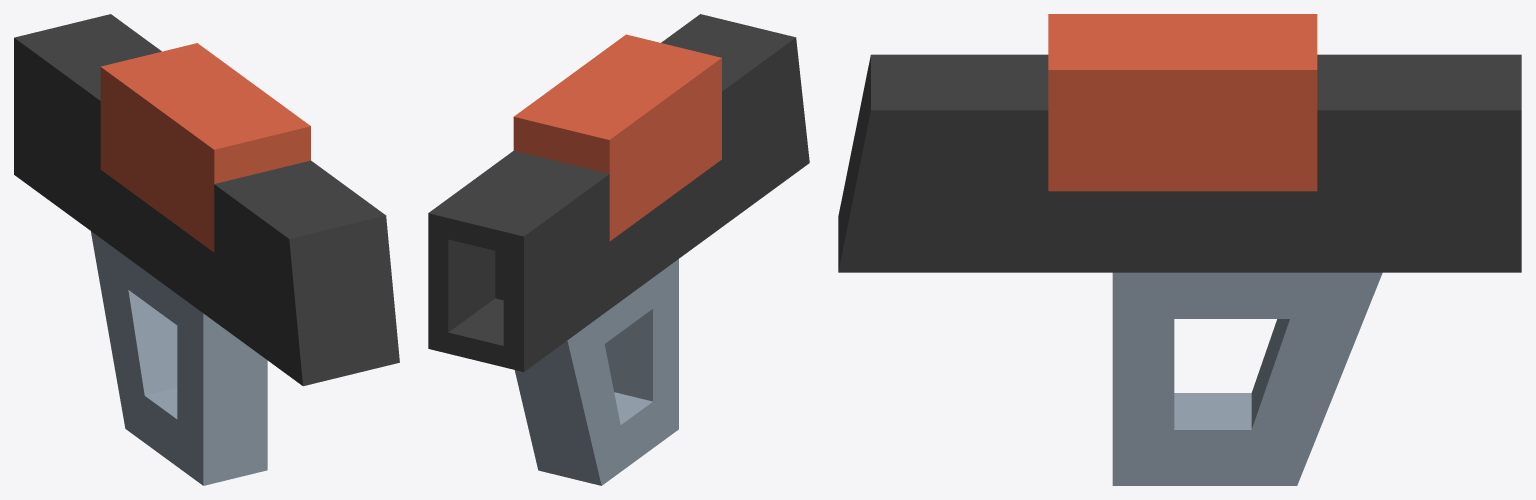
File: itemWeapon.obj
3 renders of one model, left to right at view 1: azimuth 30°, elevation 25°; view 2: azimuth 150°, elevation 25°; view 3: azimuth 270°, elevation 25°, orthographic. The views are drawn at different scales.
Visible parts, largest first — view 1: itemWeapon; view 2: itemWeapon; view 3: itemWeapon.
Boxes of the visible parts, box(x1,y1,x2,y2) form: itemWeapon: box(14, 14, 399, 485); itemWeapon: box(428, 14, 809, 485); itemWeapon: box(838, 14, 1521, 485).
Bounding box in the file's own units: 0.5915 × 2.1 × 3.06.
